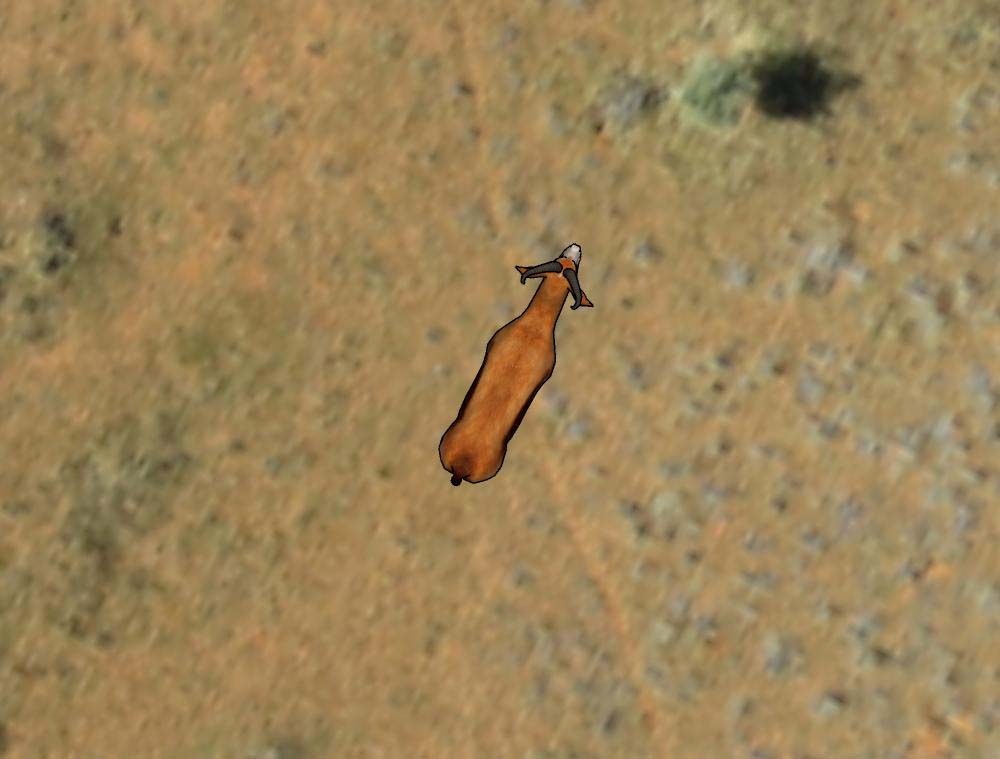springbok: (439, 238, 600, 492)
